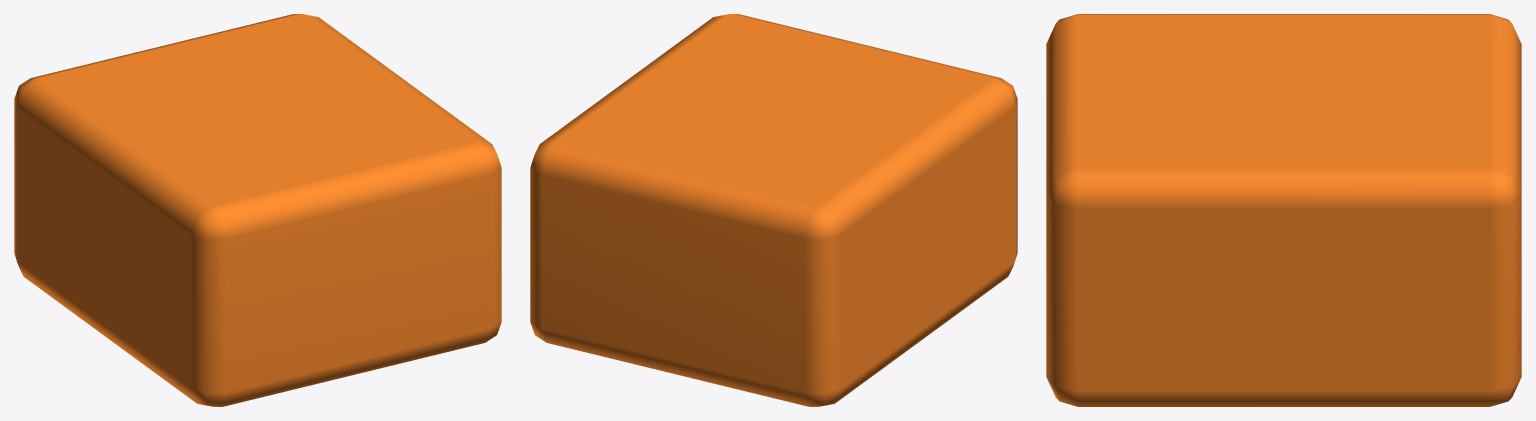
The model's file is SEDAN_HV_Pyrofuse_Safety_Box.glb.
The picture shows the model from 3 angles, left to right: view 1: azimuth 30°, elevation 25°; view 2: azimuth 150°, elevation 25°; view 3: azimuth 270°, elevation 25°; orthographic projection. The views are drawn at different scales.
Parts seen in each view (by area): view 1: SEDAN_HV_Pyrofuse_Safety_Box; view 2: SEDAN_HV_Pyrofuse_Safety_Box; view 3: SEDAN_HV_Pyrofuse_Safety_Box.
Boxes of the visible parts, <box> form: SEDAN_HV_Pyrofuse_Safety_Box: <box>14,14,501,406</box>; SEDAN_HV_Pyrofuse_Safety_Box: <box>530,14,1017,406</box>; SEDAN_HV_Pyrofuse_Safety_Box: <box>1046,14,1521,406</box>.
Size of the model in its own units: 0.16 by 0.1 by 0.18.
